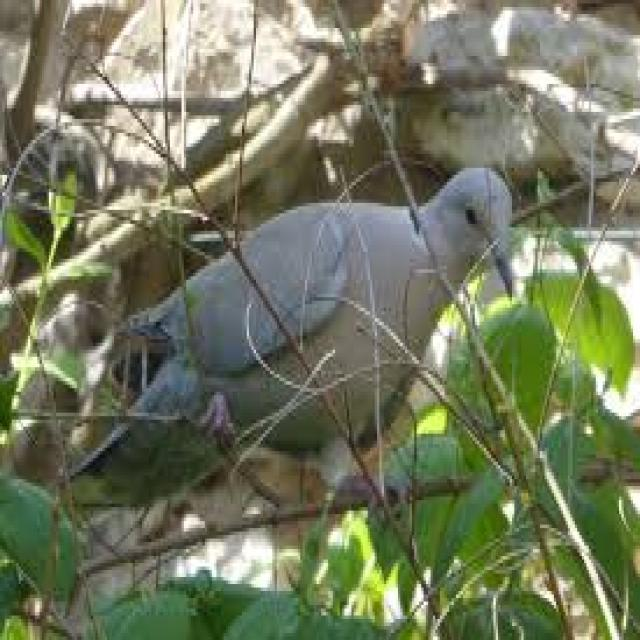pigeon: (73, 131, 530, 519)
